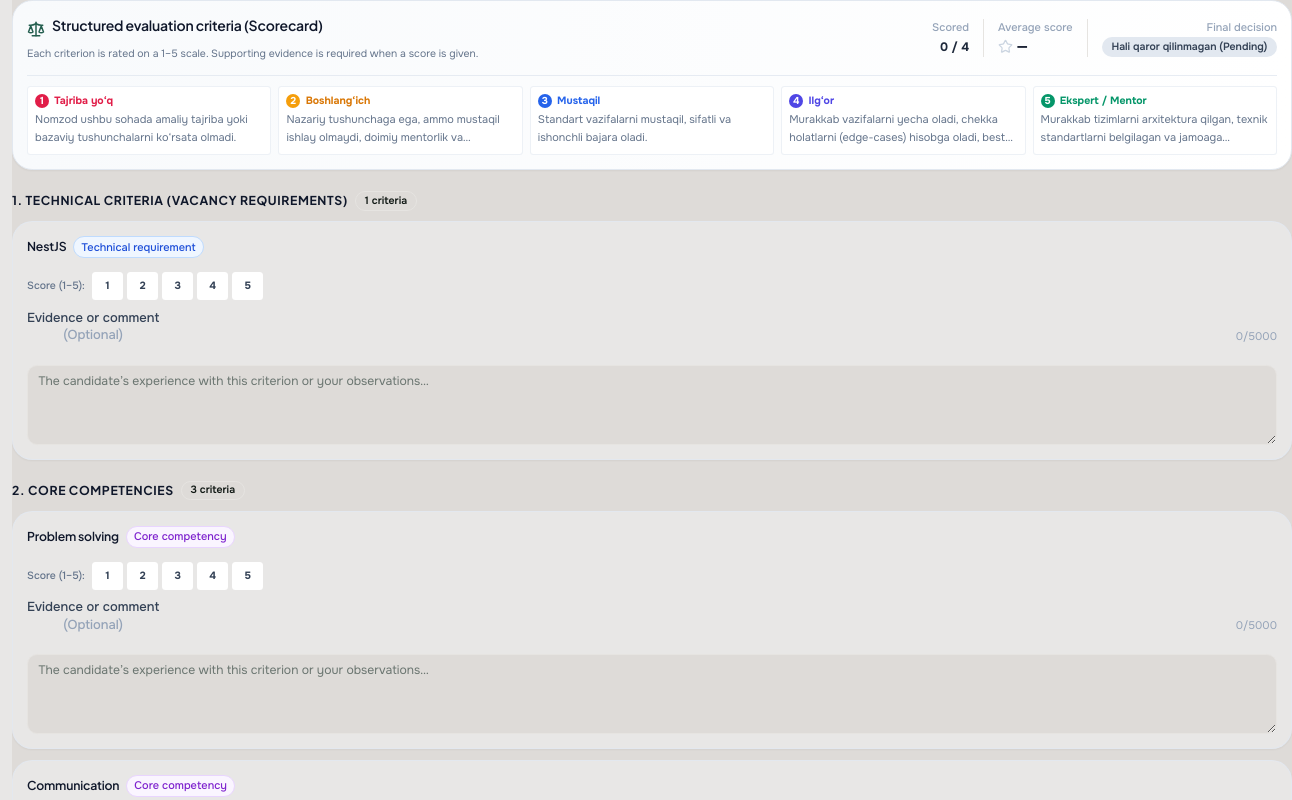
Test: interview review drafts › displays explicit rubric definitions when a score is selected
#  Score 1
Click the button named "Score 1: Tajriba yo‘q".
click(108, 286)  # box [92, 272, 123, 300]
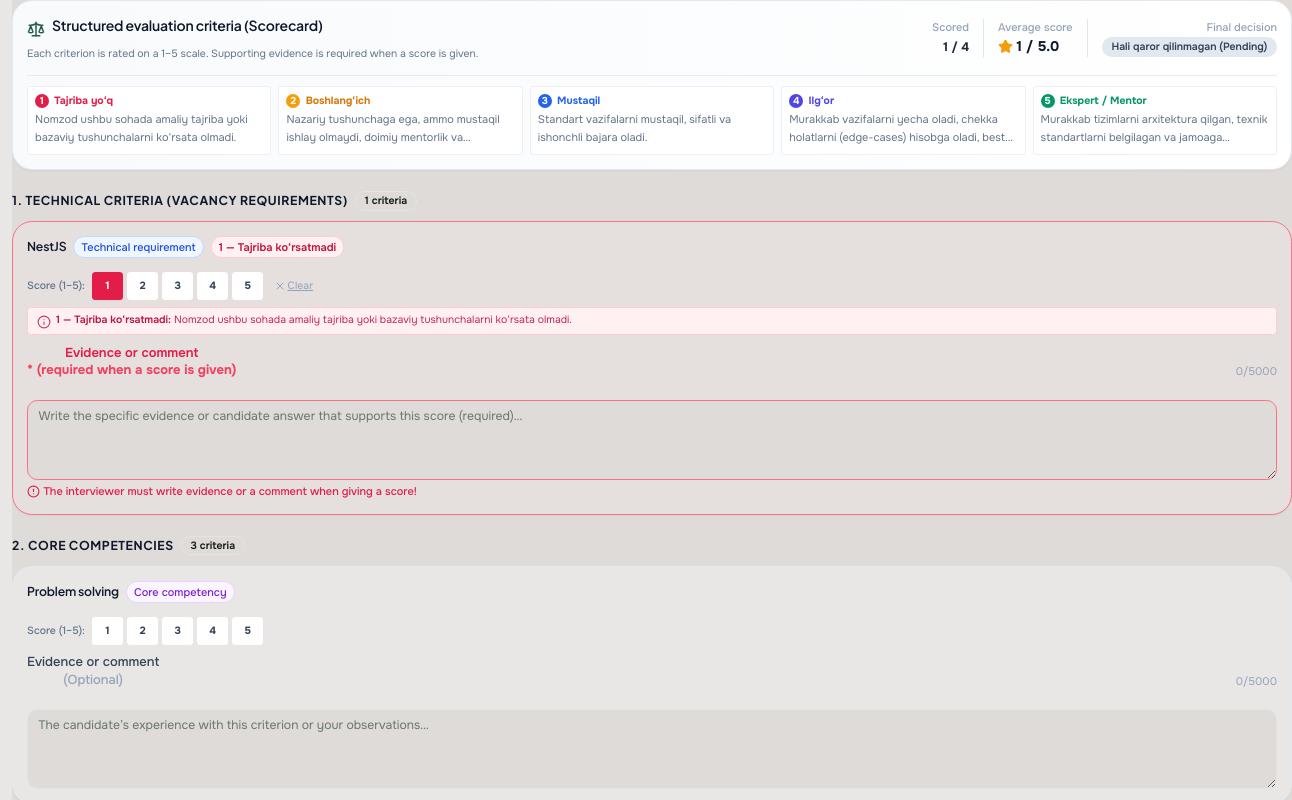
Now the text "1 — Tajriba ko‘rsatmadi" is shown, box [211, 236, 344, 258]
#  Score 3
Click the button named "Score 3: Mustaqil".
click(178, 286)  # box [162, 272, 193, 300]
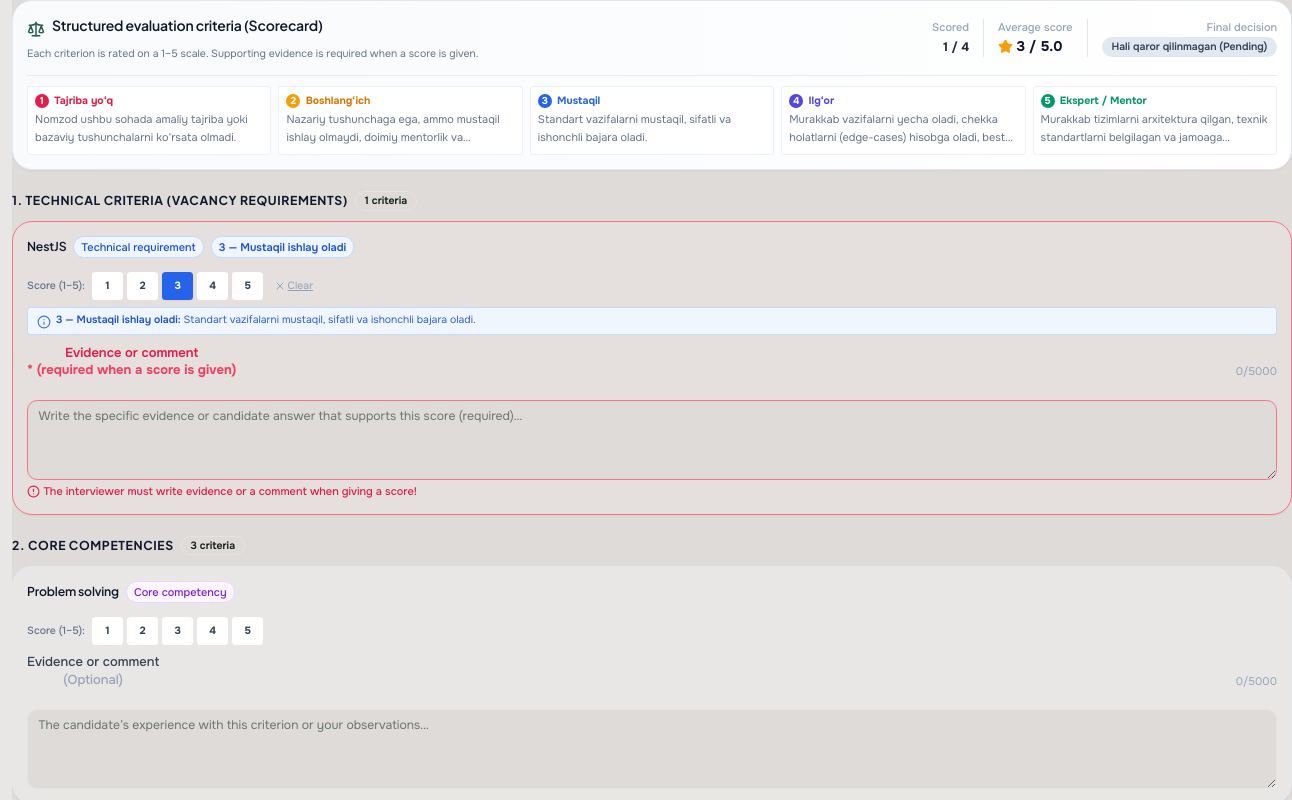
Now the text "3 — Mustaqil ishlay oladi" is shown, box [211, 236, 354, 258]
#  Score 5
Click the button named "Score 5: Ekspert".
click(248, 286)  # box [232, 272, 263, 300]
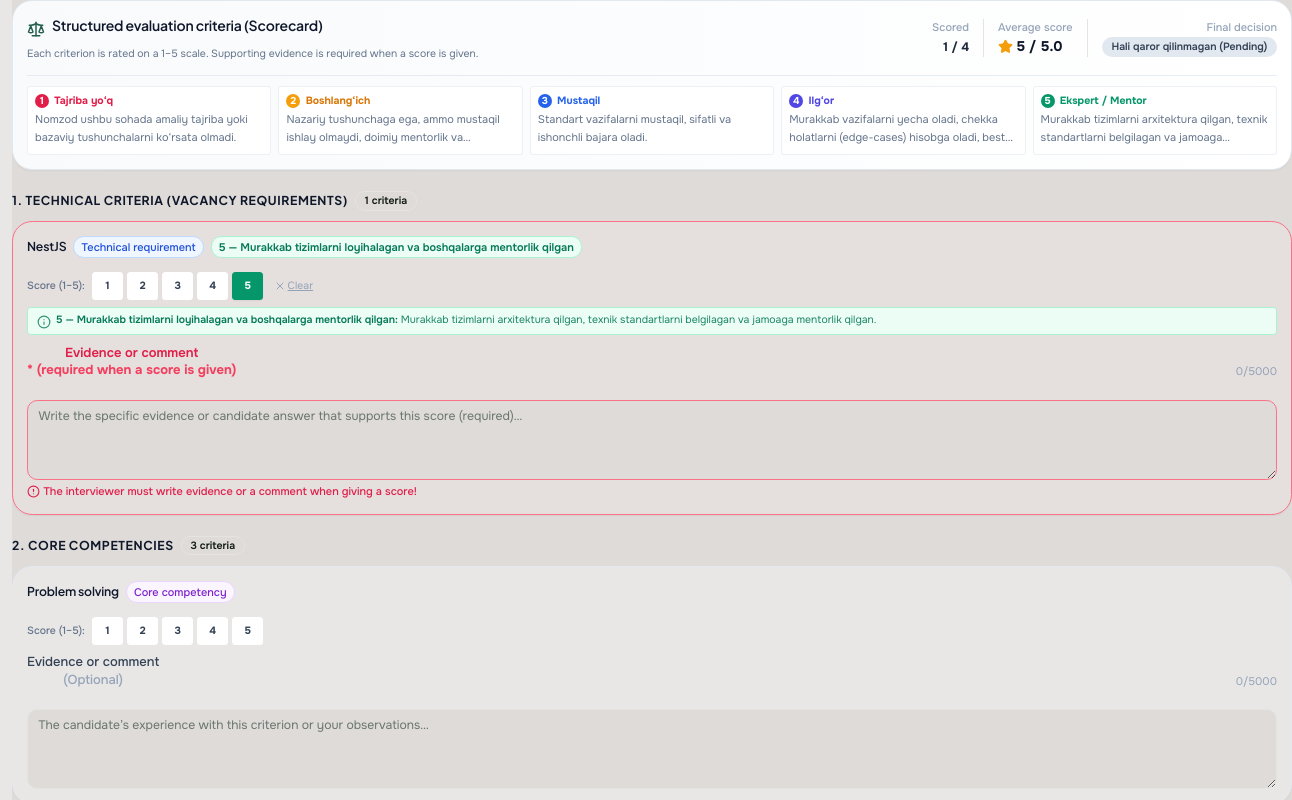
Now the text "5 — Murakkab tizimlarni loyihalagan va boshqalarga mentorlik qilgan" is shown, box [211, 236, 582, 258]
